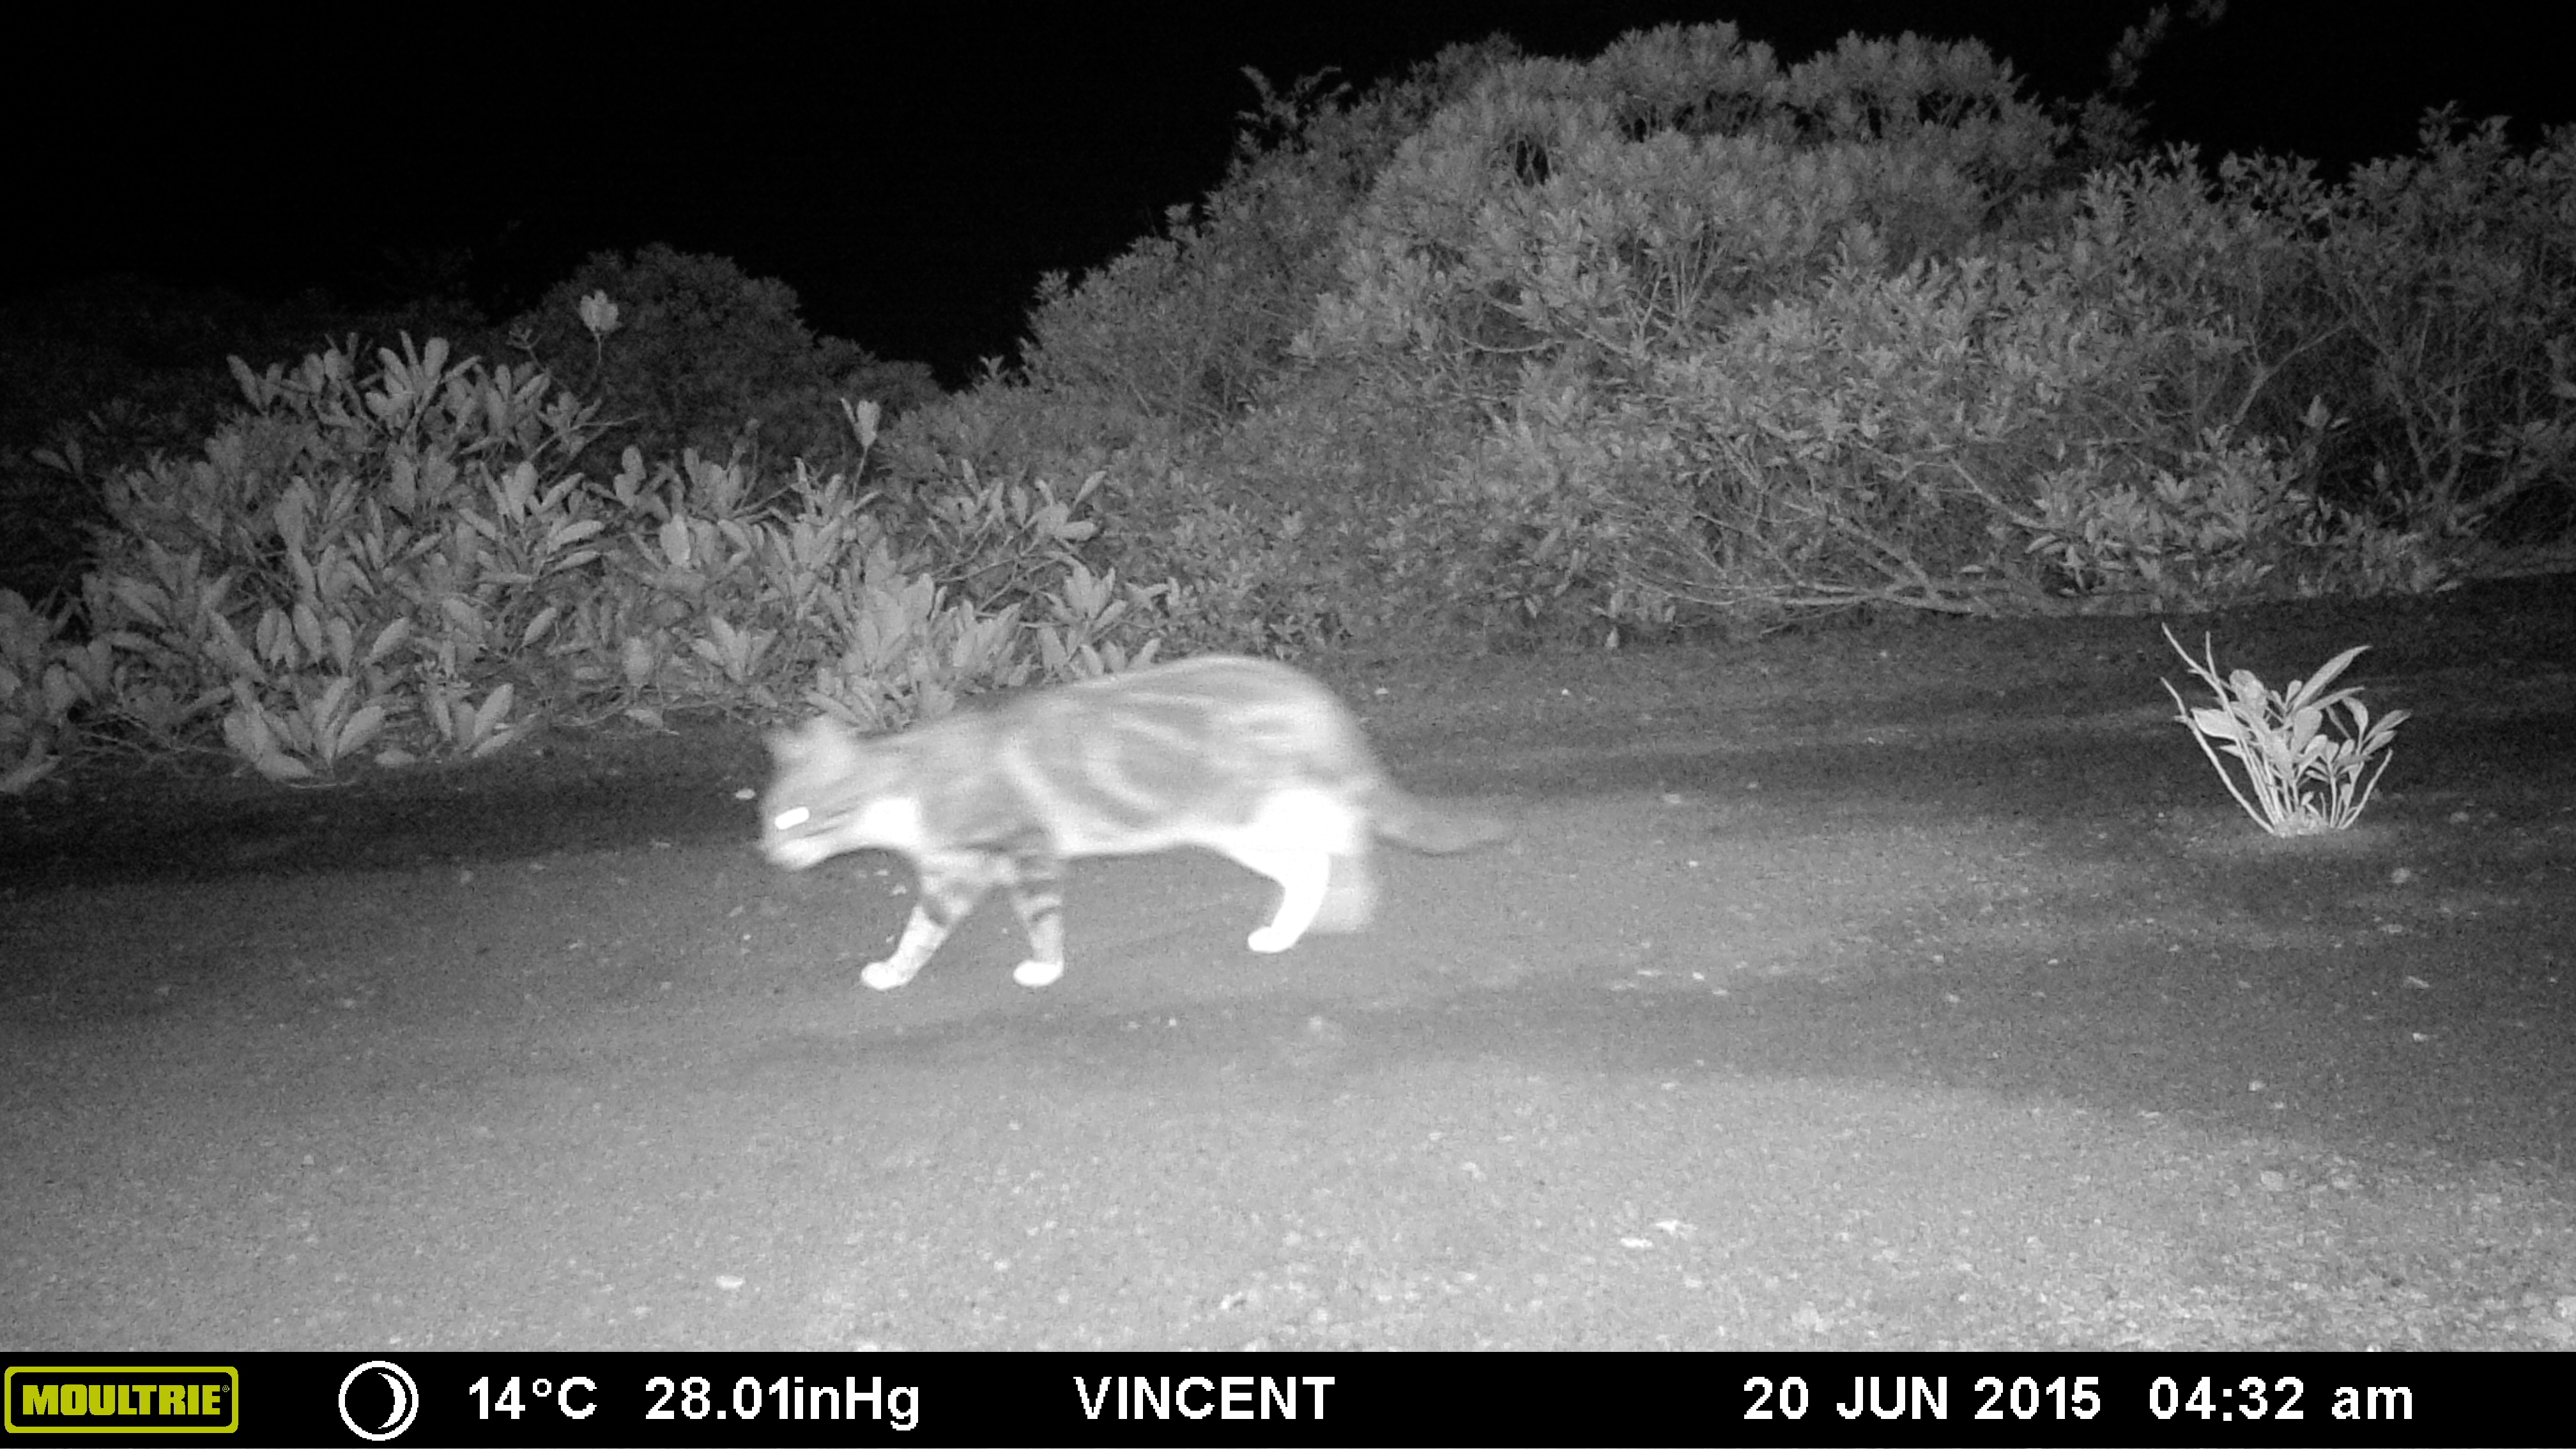cat: (731, 644, 1559, 1016)
